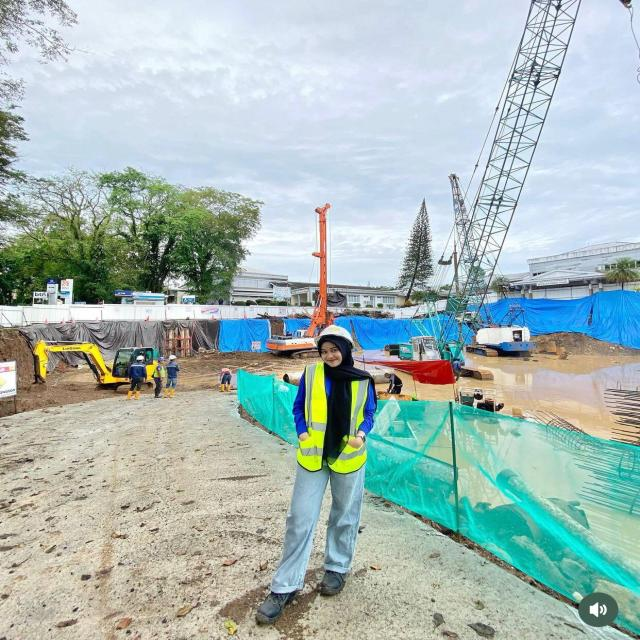safetyhelmet: (312, 319, 364, 374)
